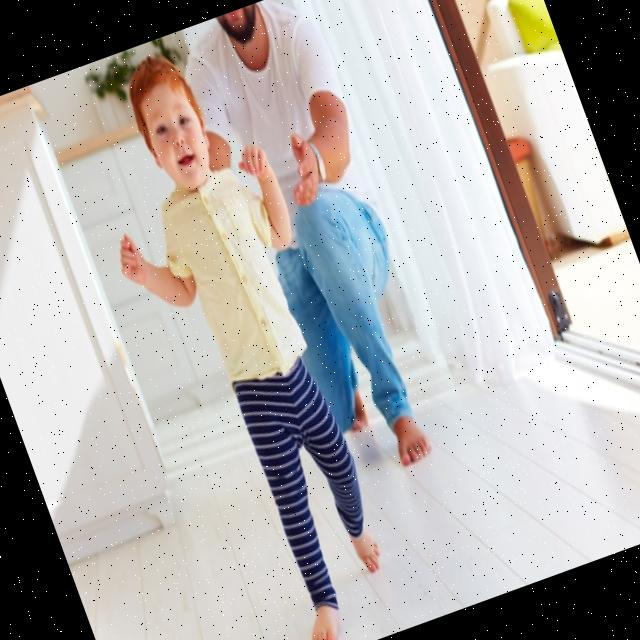Person: (55, 29, 435, 640), (169, 0, 466, 490)
